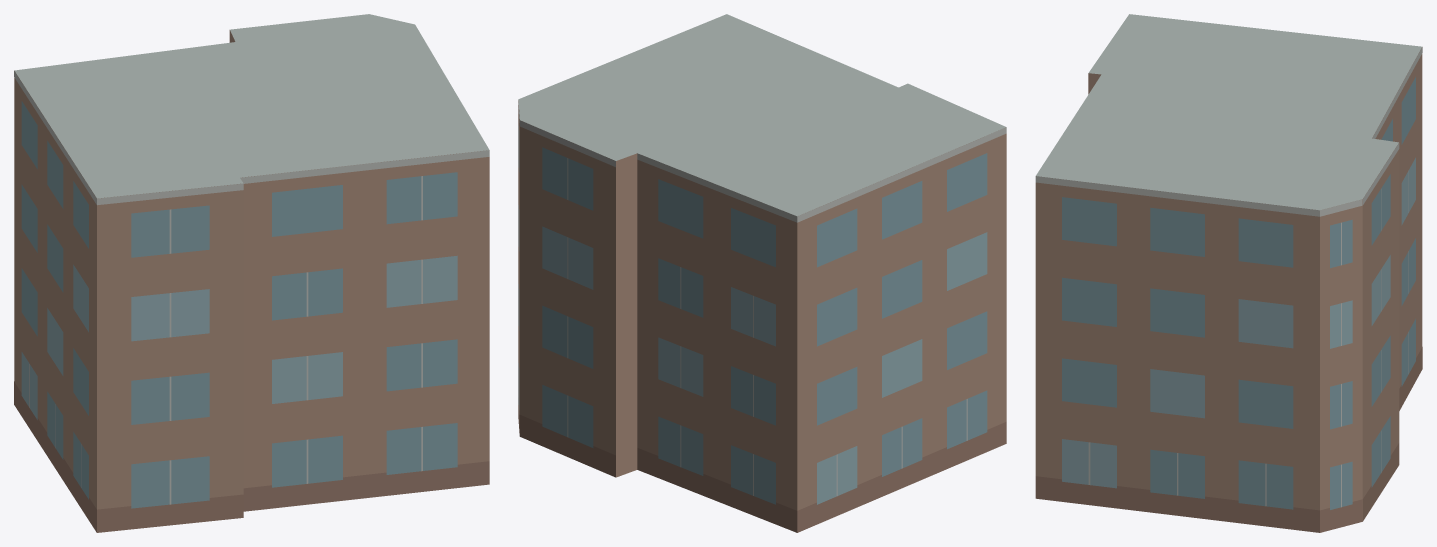
Rendered from survey-upis-32964920.glb.
The picture shows the model from 3 angles, left to right: view 1: azimuth 30°, elevation 25°; view 2: azimuth 150°, elevation 25°; view 3: azimuth 270°, elevation 25°; orthographic projection. The views are drawn at different scales.
Parts seen in each view (by area): view 1: survey-upis-32964920.tmp; view 2: survey-upis-32964920.tmp; view 3: survey-upis-32964920.tmp.
Boxes of the visible parts, x1,y1,x2,y2 form: survey-upis-32964920.tmp: (14,14,489,532); survey-upis-32964920.tmp: (518,14,1006,532); survey-upis-32964920.tmp: (1035,14,1422,532).
Bounding box in the file's own units: 15.93 × 12.2 × 13.27.
